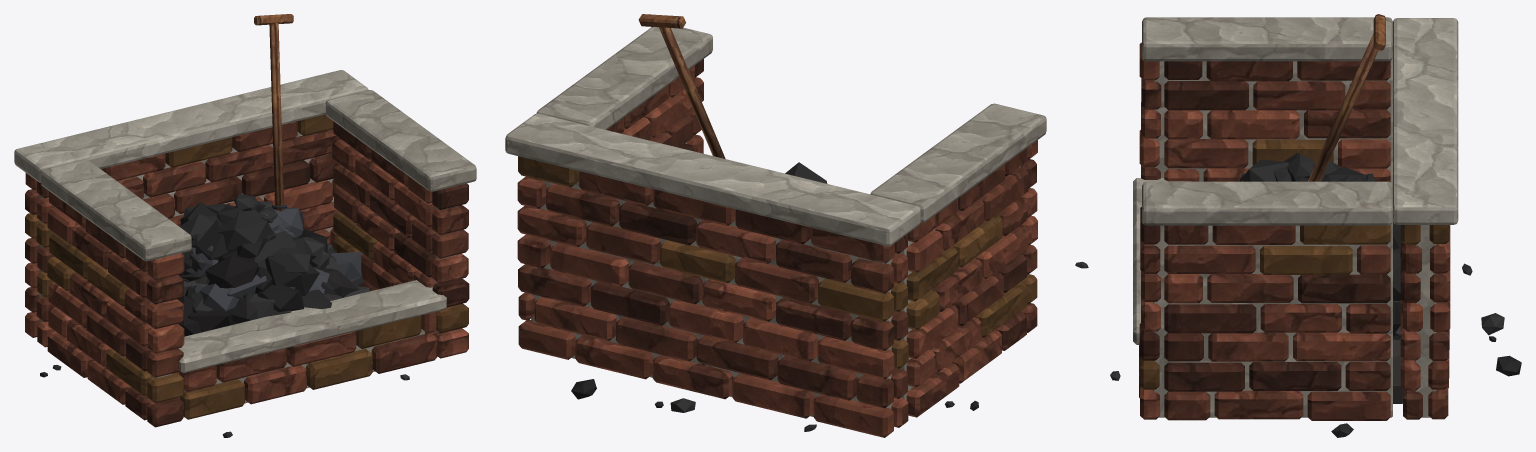
File: ef_coal_bunker.glb
The picture shows the model from 3 angles, left to right: view 1: azimuth 30°, elevation 25°; view 2: azimuth 150°, elevation 25°; view 3: azimuth 270°, elevation 25°; orthographic projection. The views are drawn at different scales.
Parts seen in each view (by area): view 1: model; view 2: model; view 3: model.
Boxes of the visible parts, box(x1,y1,x2,y2) form: model: box(14, 14, 476, 437); model: box(505, 14, 1046, 437); model: box(1075, 14, 1521, 437).
Bounding box in the file's own units: 1.42 × 1.05 × 1.23.
20 materials, 11 textured.
